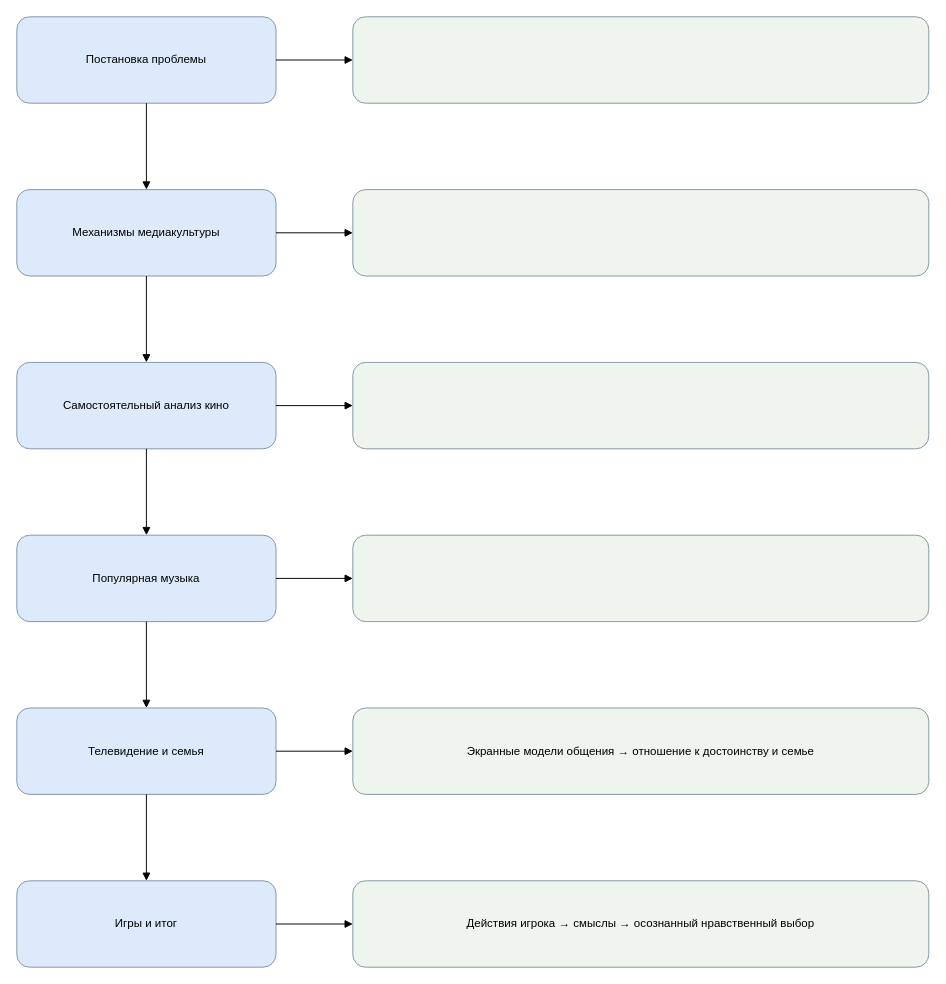
Some shapes in this 946 by 984 pixel diagram are drawn without their labels. Here are the shapes that lost their labels. From the top down, the box of each, then its label:
(352, 16, 929, 103): Кто воздействует? → Зачем? → Какими средствами?
(352, 189, 929, 276): Популярность и награды ≠ нравственная ценность
(352, 361, 929, 449): Сюжет → ценности → последствия; фильтры: наркотики, секс, насилие
(352, 534, 929, 622): Текст и образ → установки; эстетика ≠ нравственное оправдание
